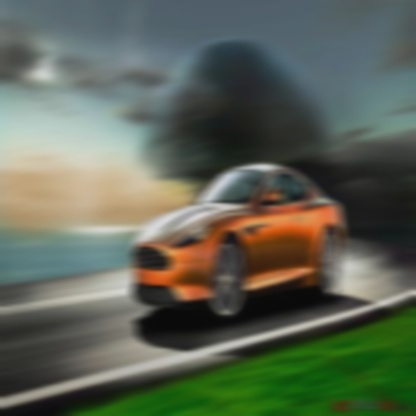Vehicle: (131, 166, 345, 326)
